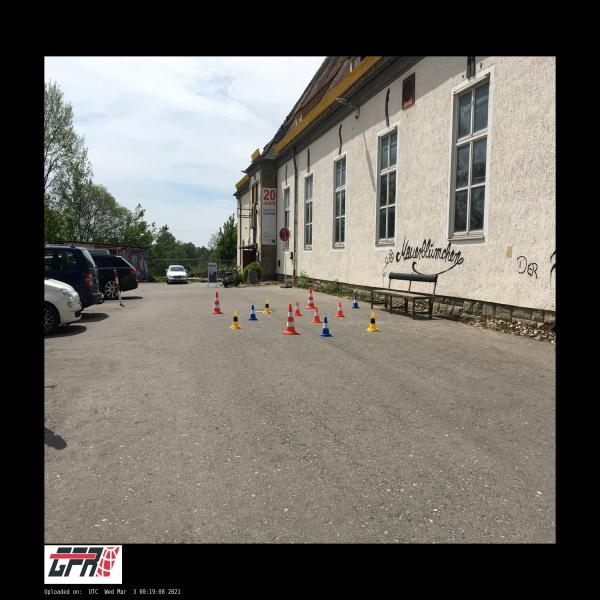blue_cone: (320, 317, 333, 337), (248, 305, 258, 320), (352, 295, 360, 309)
large_orange_cone: (282, 303, 300, 334), (211, 291, 223, 314), (306, 288, 316, 308)
orange_cone: (312, 306, 322, 323), (293, 301, 303, 316), (336, 302, 345, 317)
yellow_cone: (366, 312, 379, 332), (230, 311, 242, 329), (263, 299, 272, 314)
